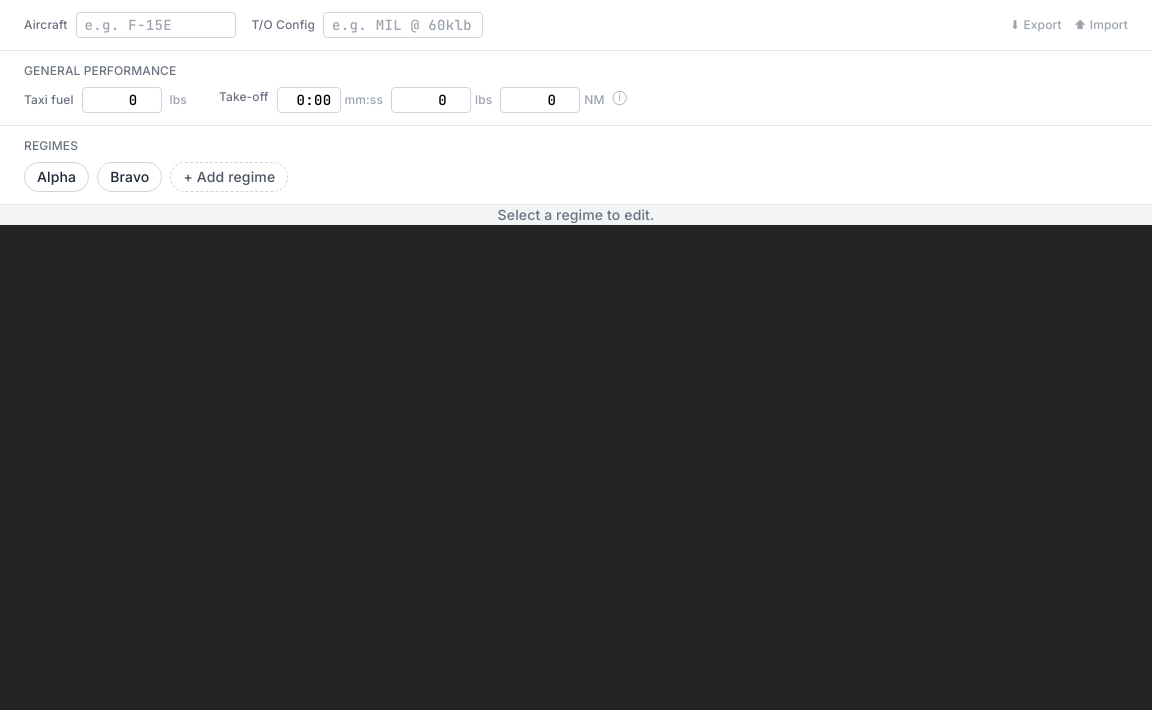
Scenario: PerformancePage › Profile area layout (task 11.3, anonymous tier) › shows regimes as chips; clicking one selects it and opens its editor
What coordinates should you click on to do the following:
click the button "Bravo"
I would click on:
 (130, 177)
Its box is [97, 162, 162, 192].
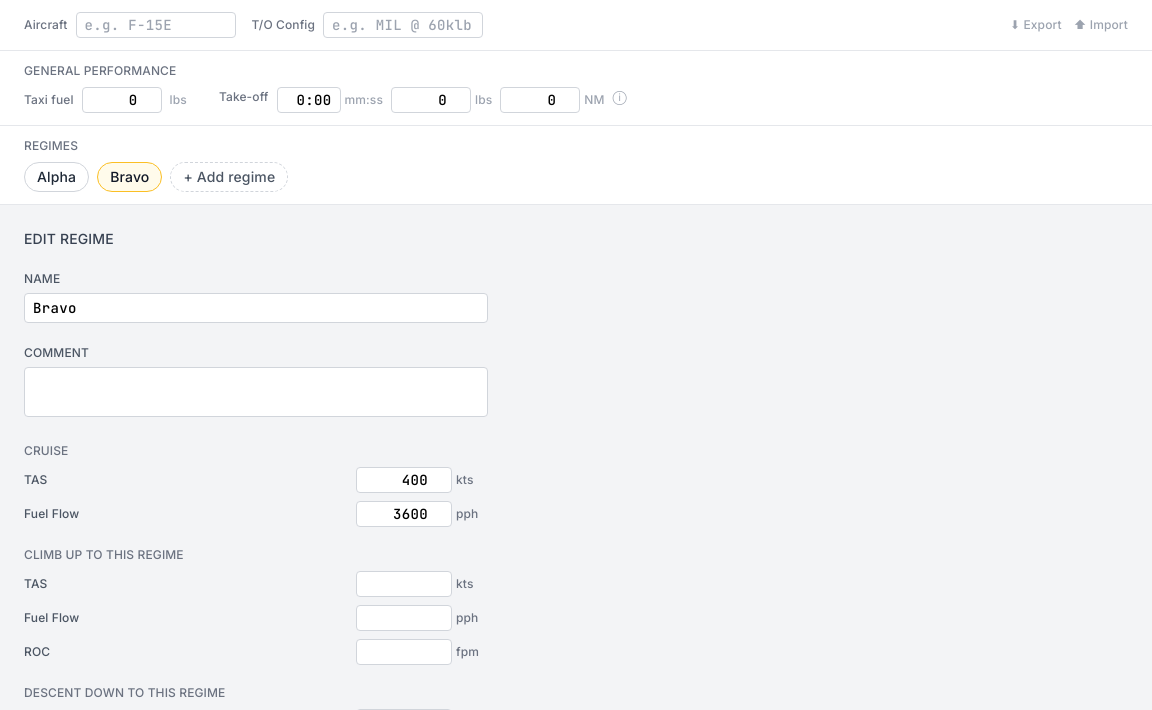
Expected: the button "+ Add regime" is shown, [170, 162, 288, 192]
Expected: the field showing "Bravo" below "Name" is shown, [24, 293, 488, 323]
